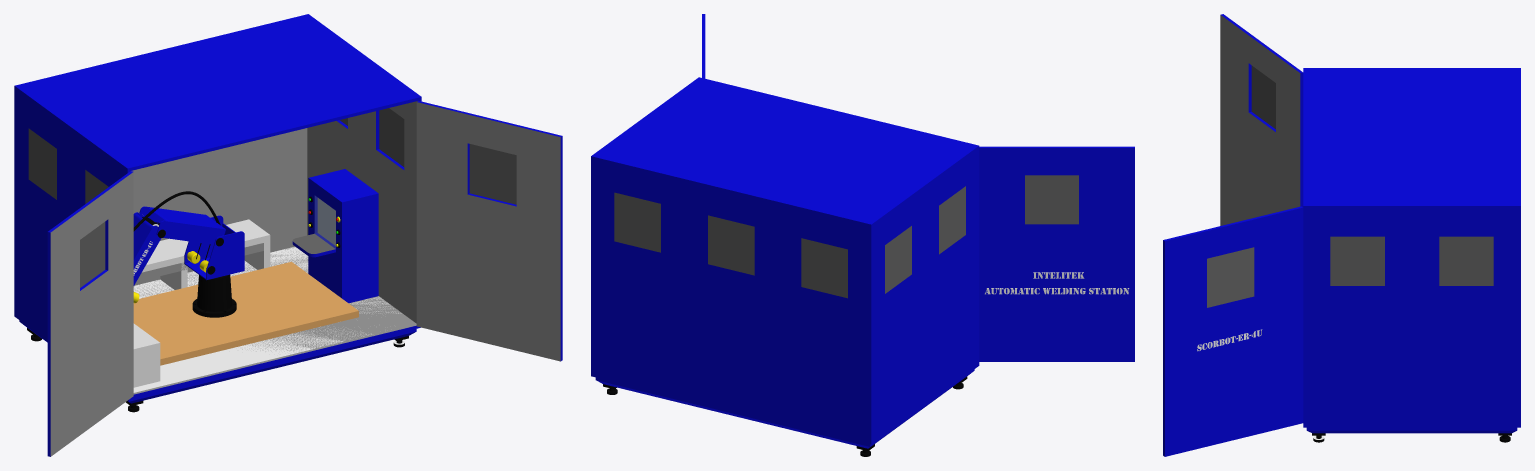
Rendered from welding_station_with_scorbot-_er-4u.glb.
3 renders of one model, left to right at view 1: azimuth 30°, elevation 25°; view 2: azimuth 150°, elevation 25°; view 3: azimuth 270°, elevation 25°, orthographic. The views are drawn at different scales.
Visible parts, largest first — view 1: Material3 (×4), Material2 (×4); view 2: Material3, Material2 (×2); view 3: Material3 (×2), Material2.
Part boxes in pixels (x1,y1,x2,y2): Material3 (×4): (14,14,562,456); Material2 (×4): (27,108,516,412); Material3: (591,14,1134,448); Material2 (×2): (614,175,1129,298); Material3 (×2): (1163,14,1520,456); Material2: (1207,65,1493,307).
Bounding box in the file's own units: 156 × 76.97 × 104.
